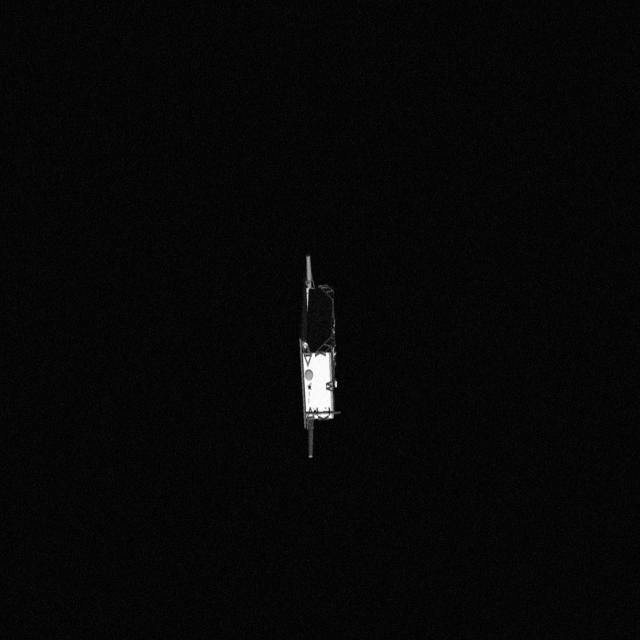medium_debris: (290, 250, 348, 464)
